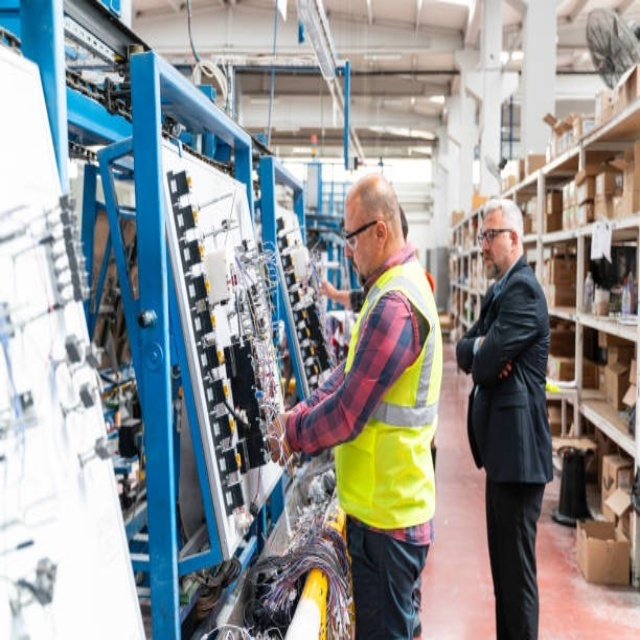Gafas: (343, 219, 384, 251), (478, 228, 514, 245)
Sin_mascara: (346, 254, 373, 285), (479, 248, 497, 276)
